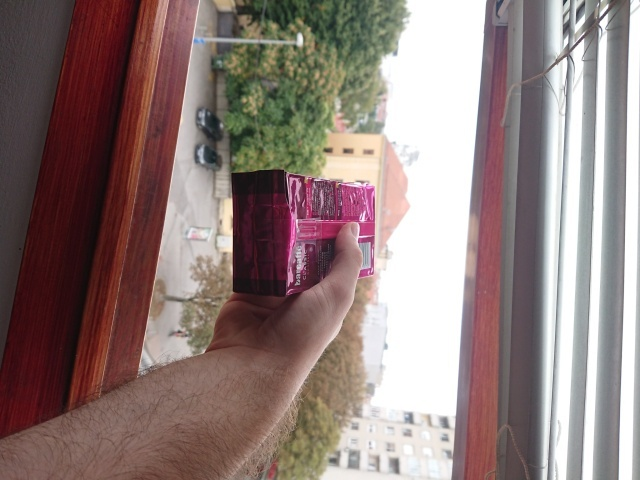Barcaffe Classic Original 225g: (228, 166, 380, 300)
